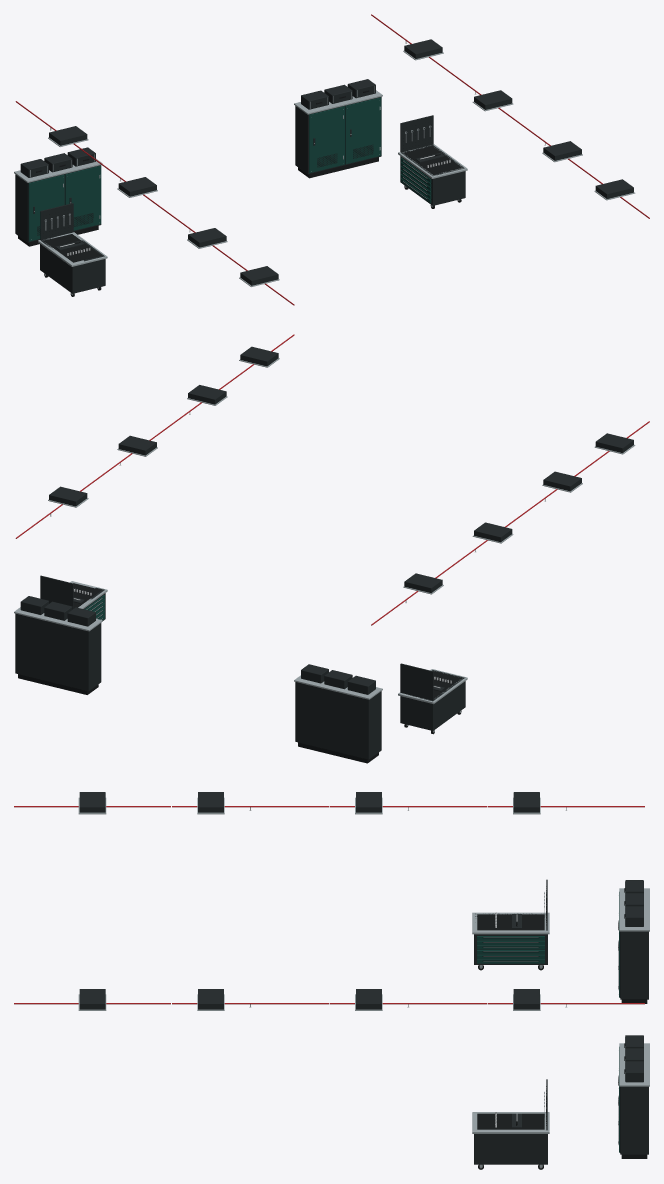
The model's file is service-equipment.glb.
3 renders of one model, top to bottom at view 1: azimuth 30°, elevation 25°; view 2: azimuth 150°, elevation 25°; view 3: azimuth 270°, elevation 25°, orthographic. The views are drawn at different scales.
Visible parts, largest first — view 1: Precision rear cabinet 4.65, Precision rear cabinet -4.65, Ceiling service infrastructure, Precision workstation -1, Precision workstation 1; view 2: Precision rear cabinet 4.65, Precision rear cabinet -4.65, Ceiling service infrastructure, Precision workstation -1, Precision workstation 1; view 3: Ceiling service infrastructure, Precision workstation -1, Precision workstation 1, Precision rear cabinet 4.65, Precision rear cabinet -4.65.
Part boxes in pixels (x1,y1,x2,y2): Precision rear cabinet 4.65: (294, 79, 382, 178); Precision rear cabinet -4.65: (14, 147, 102, 246); Ceiling service infrastructure: (15, 14, 649, 305); Precision workstation -1: (38, 203, 107, 296); Precision workstation 1: (398, 115, 467, 208); Precision rear cabinet 4.65: (14, 596, 102, 694); Precision rear cabinet -4.65: (294, 664, 382, 763); Ceiling service infrastructure: (15, 334, 649, 625); Precision workstation -1: (398, 663, 467, 734); Precision workstation 1: (40, 575, 107, 620); Ceiling service infrastructure: (14, 792, 644, 1010); Precision workstation -1: (472, 879, 549, 970); Precision workstation 1: (472, 1079, 549, 1169); Precision rear cabinet 4.65: (618, 1035, 649, 1158); Precision rear cabinet -4.65: (618, 880, 649, 1003).
Bounding box in the file's own units: 13.15 × 4.59 × 16.11.
